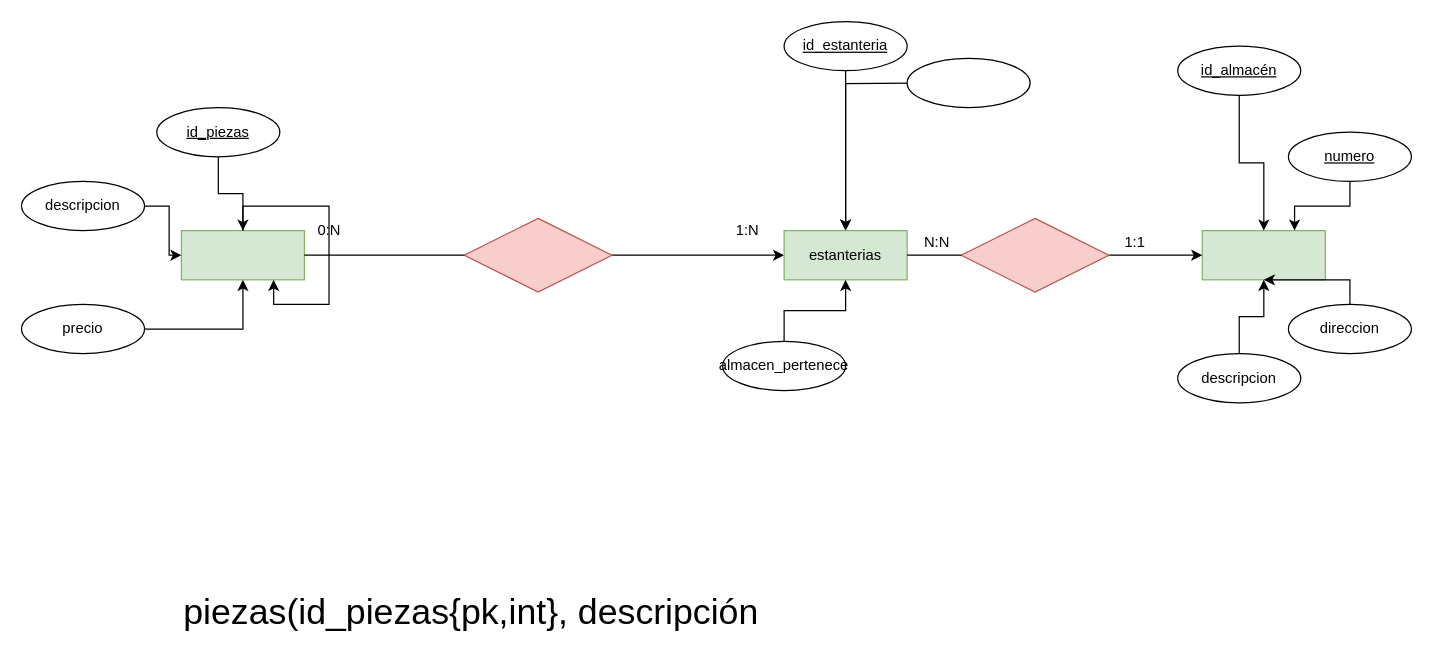
Some shapes in this 1433 by 654 pixel diagram are drawn without their labels. The shapes that lost their labels are listed below. From the top down, each one's centre as x and y in pixels, then its label:
At point (968, 82): "nombre_estantería".
At point (242, 254): "piezas".
At point (537, 254): "están".
At point (1034, 254): "tienen".
At point (1263, 254): "almacenes".
